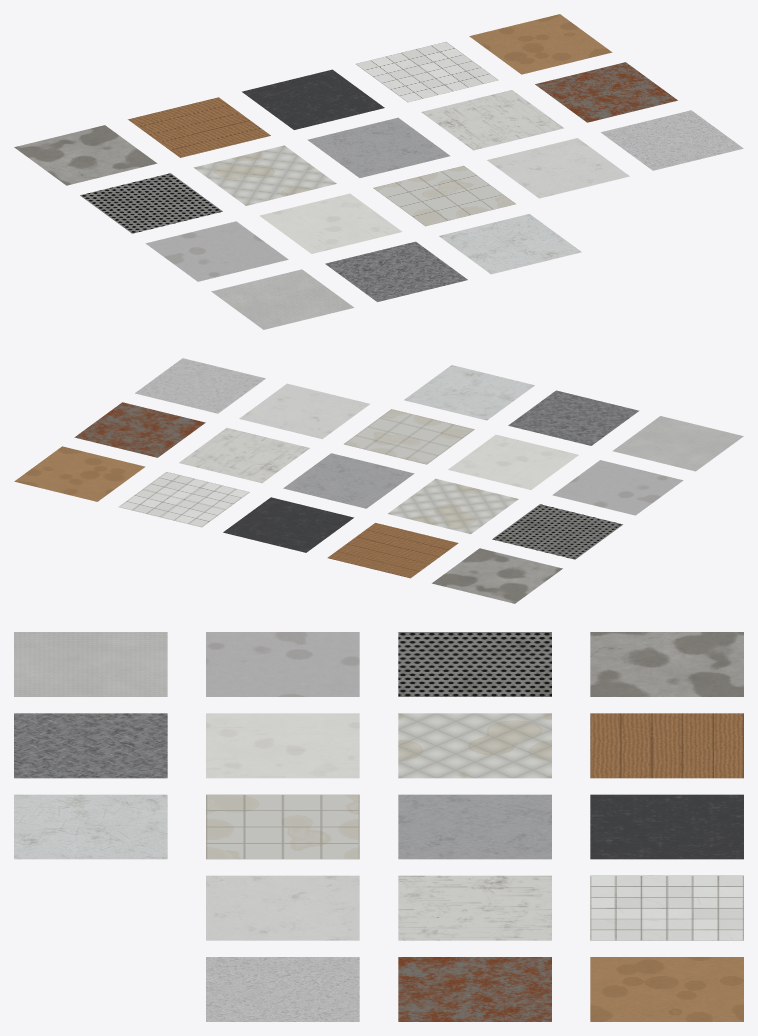
File: matieres.glb
The picture shows the model from 3 angles, top to bottom: view 1: azimuth 30°, elevation 25°; view 2: azimuth 150°, elevation 25°; view 3: azimuth 270°, elevation 25°; orthographic projection. The views are drawn at different scales.
Visible parts, largest first — view 1: matelas, tissu, beton, carrelage, carton, moquette, bois, caoutchouc, metal_brut, metal_peint, peinture_mur, plafond (+6 smaller); view 2: peinture_mur, caoutchouc, carton, metal_brut, metal_rouille, plastique, tole_striee, matelas, moquette, plafond, tissu, simili_cuir (+6 smaller); view 3: bois, caoutchouc, carrelage, matelas, metal_brut, metal_peint, peinture_mur, plafond, plastique, tole_striee, vinyle, beton (+6 smaller).
Boxes of the visible parts, <box> form: matelas: <box>193,145,336,205</box>; tissu: <box>211,269,354,329</box>; beton: <box>14,125,157,185</box>; carrelage: <box>356,42,498,102</box>; carton: <box>469,14,612,74</box>; moquette: <box>145,221,288,281</box>; bois: <box>128,97,270,157</box>; caoutchouc: <box>242,69,384,129</box>; metal_brut: <box>307,117,449,177</box>; metal_peint: <box>421,90,563,150</box>; peinture_mur: <box>259,193,402,253</box>; plafond: <box>373,165,515,226</box>; peinture_mur: <box>448,434,578,489</box>; caoutchouc: <box>223,497,353,552</box>; carton: <box>14,446,145,501</box>; metal_brut: <box>283,453,414,508</box>; metal_rouille: <box>74,402,205,457</box>; plastique: <box>239,383,369,439</box>; tole_striee: <box>508,390,639,445</box>; matelas: <box>388,478,518,534</box>; moquette: <box>552,460,683,515</box>; plafond: <box>344,409,474,464</box>; tissu: <box>612,416,743,471</box>; simili_cuir: <box>135,358,265,413</box>; bois: <box>590,713,743,778</box>; caoutchouc: <box>590,794,743,859</box>; carrelage: <box>590,875,743,940</box>; matelas: <box>398,713,551,778</box>; metal_brut: <box>398,794,551,859</box>; metal_peint: <box>398,875,551,940</box>; peinture_mur: <box>206,713,359,778</box>; plafond: <box>206,794,359,859</box>; plastique: <box>206,875,359,940</box>; tole_striee: <box>14,713,167,778</box>; vinyle: <box>14,794,167,859</box>; beton: <box>590,632,743,696</box>.
Bounding box in the file's own units: 24 × 0 × 19.
Materials: 18 (18 with a texture image).
